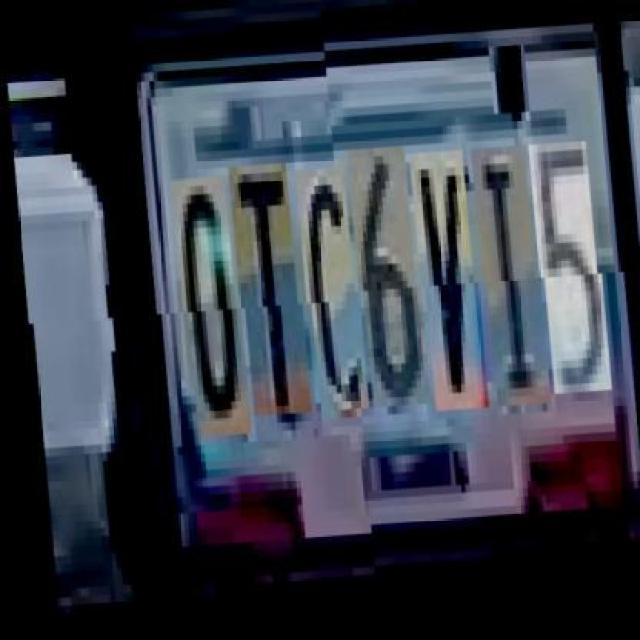5: (529, 158, 605, 412)
6: (348, 160, 424, 422)
c: (296, 171, 362, 424)
i: (472, 161, 543, 422)
o: (172, 178, 243, 440)
t: (228, 166, 304, 420)
v: (411, 165, 482, 426)
